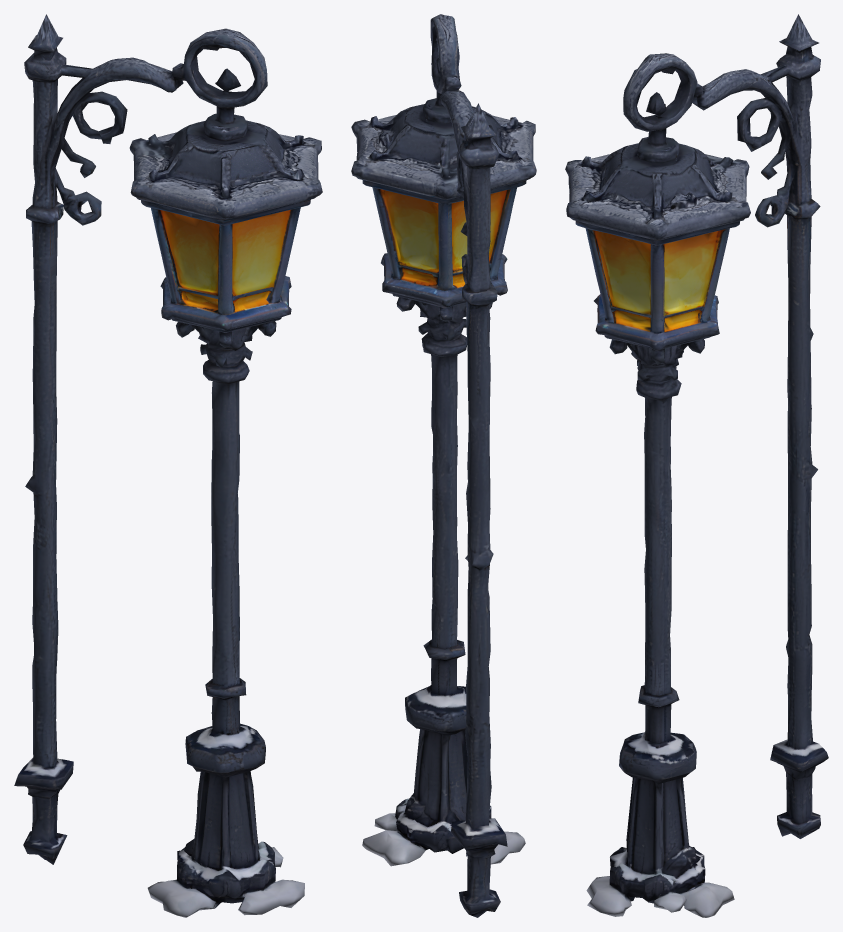
File: lantern_post.glb
The picture shows the model from 3 angles, left to right: view 1: azimuth 30°, elevation 25°; view 2: azimuth 150°, elevation 25°; view 3: azimuth 270°, elevation 25°; orthographic projection. The views are drawn at different scales.
Visible parts, largest first — view 1: node_c267b546-e5bc-4cd8-95e1-8e925c550f82; view 2: node_c267b546-e5bc-4cd8-95e1-8e925c550f82; view 3: node_c267b546-e5bc-4cd8-95e1-8e925c550f82.
Part boxes in pixels (<box>): node_c267b546-e5bc-4cd8-95e1-8e925c550f82: <box>14,14,322,917</box>; node_c267b546-e5bc-4cd8-95e1-8e925c550f82: <box>351,14,536,917</box>; node_c267b546-e5bc-4cd8-95e1-8e925c550f82: <box>565,14,828,917</box>.
Bounding box in the file's own units: 0.2854 × 1 × 0.2852.
Materials: 1 (1 with a texture image).
